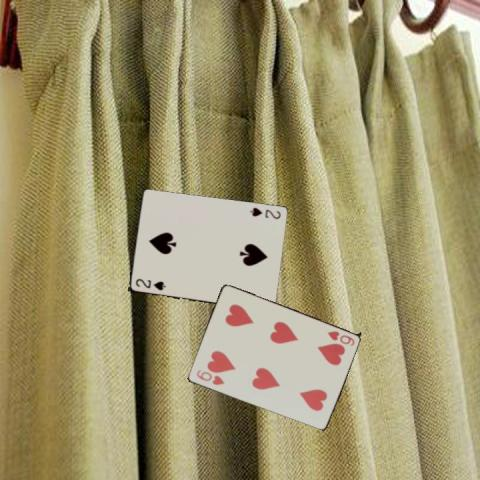2s: (247, 204, 282, 220), (132, 276, 166, 292)
6h: (194, 367, 226, 387), (325, 328, 356, 347)
